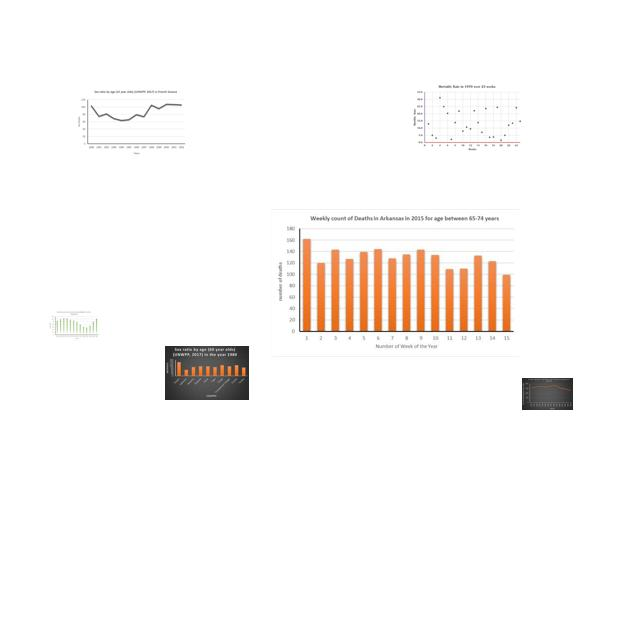Graph: (271, 209, 519, 357), (74, 88, 191, 157), (412, 84, 523, 152), (165, 346, 249, 400), (522, 378, 573, 410), (48, 310, 99, 340)
